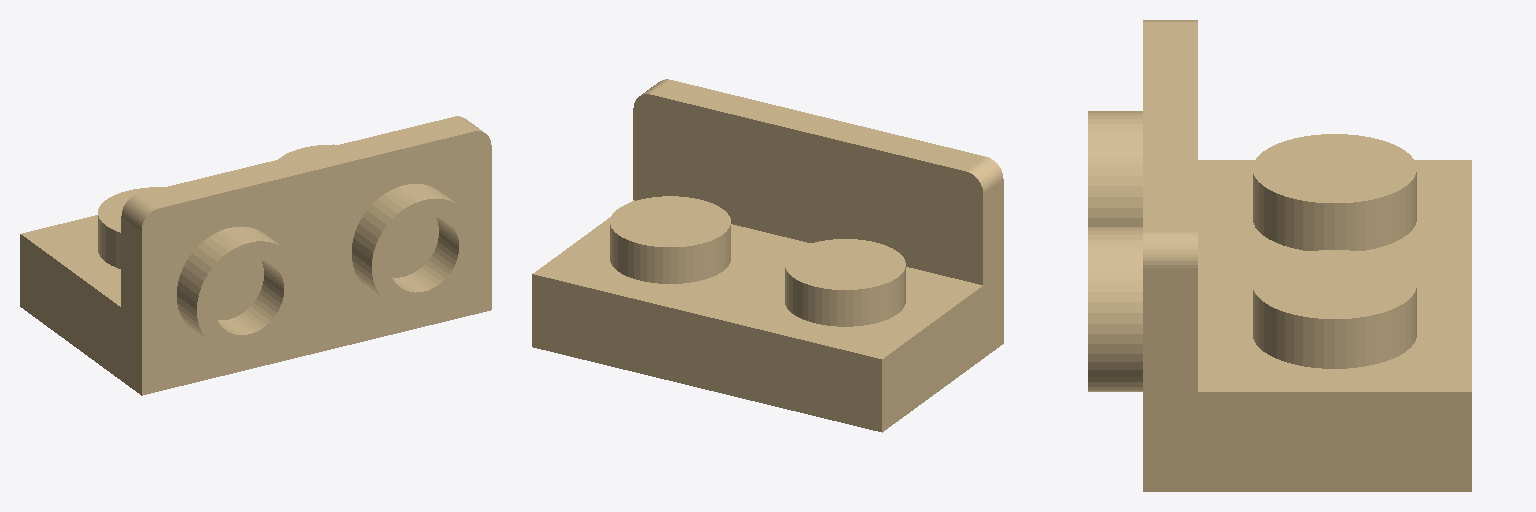
robot.urdf — 99780__tan:
<?xml version="1.0"?>
<robot name="99780__tan">
  <link name="99780__tan">
    <inertial>
      <origin xyz="0.000000 -0.002073 0.000165" rpy="0 0 0"/>
      <mass value="0.001154"/>
      <inertia ixx="1.504060623e-08" ixy="-4.523643975e-25" ixz="-2.827277484e-26" iyy="2.851348734e-08" iyz="2.209981568e-09" izz="3.398256744e-08"/>
    </inertial>
    <visual>
      <geometry>
        <mesh filename="../meshes/visual/99780.obj" scale="1 1 1"/>
      </geometry>
      <material name="99780__tan_color">
        <color rgba="0.860 0.770 0.610 1.000"/>
      </material>
    </visual>
    <collision>
      <geometry>
        <mesh filename="../meshes/collision/99780_hull.obj" scale="1 1 1"/>
      </geometry>
    </collision>
  </link>
</robot>

--- Render facts (derived) ---
The picture shows the robot from 3 angles, left to right: view 1: azimuth 30°, elevation 25°; view 2: azimuth 150°, elevation 25°; view 3: azimuth 270°, elevation 25°; orthographic projection.
Robot: 99780__tan — 1 links, 0 joints (none); root link 99780__tan; default pose: every joint at zero.
Links seen in each view (by area): view 1: 99780__tan; view 2: 99780__tan; view 3: 99780__tan.
Link boxes in pixels (x1,y1,x2,y2): 99780__tan: (20, 116, 491, 395); 99780__tan: (532, 79, 1003, 432); 99780__tan: (1088, 20, 1471, 491).
Size in the robot's own frame: 0.016 by 0.0112 by 0.008 metres.
Meshes: 1 distinct files referenced, 1 mesh visuals loaded (1 OBJ).
